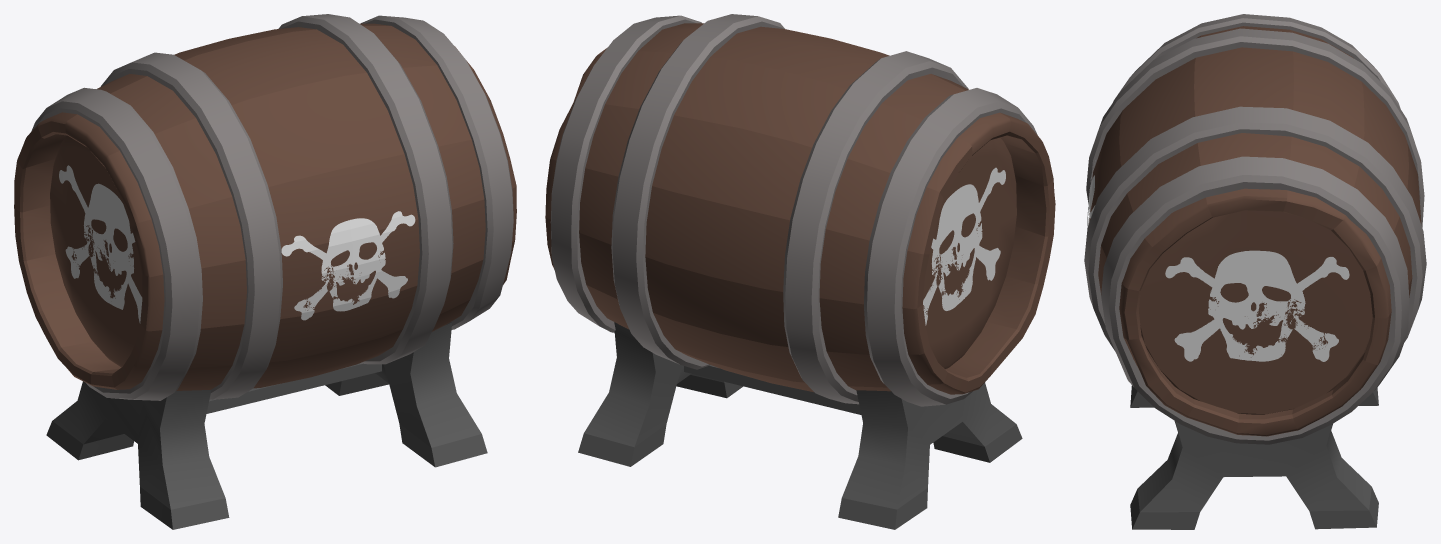
Rendered from barrel_stand_model.fbx.
The picture shows the model from 3 angles, left to right: view 1: azimuth 30°, elevation 25°; view 2: azimuth 150°, elevation 25°; view 3: azimuth 270°, elevation 25°; orthographic projection. The views are drawn at different scales.
Visible parts, largest first — view 1: lp.029, StaticMesh4_LOD0.001, lp.034, lp.035, lp.033, lp.031, lp.032, 32673554c1.003, 32673554c1.004; view 2: lp.029, StaticMesh4_LOD0.001, lp.034, lp.035, lp.033, lp.031, lp.032, 32673554c1.004; view 3: lp.029, lp.030, lp.032, StaticMesh4_LOD0.001, lp.033, 32673554c1.005, lp.034, lp.035.
Boxes of the visible parts, x1,y1,x2,y2 form: lp.029: (14,23,516,390); StaticMesh4_LOD0.001: (46,322,487,529); lp.034: (100,52,282,399); lp.035: (31,87,202,400); lp.033: (278,14,453,364); lp.031: (50,135,142,367); lp.032: (361,15,513,329); 32673554c1.003: (281,211,415,320); 32673554c1.004: (59,165,142,323); lp.029: (545,23,1055,394); StaticMesh4_LOD0.001: (578,322,1022,529); lp.034: (783,51,968,404); lp.035: (864,88,1037,406); lp.033: (611,14,784,369); lp.031: (923,137,1016,368); lp.032: (550,15,701,332); 32673554c1.004: (923,167,1005,325); lp.029: (1088,26,1421,436); lp.030: (1139,210,1372,414); lp.032: (1101,156,1409,444); StaticMesh4_LOD0.001: (1130,385,1378,529); lp.033: (1084,106,1426,351); 32673554c1.005: (1165,250,1349,361); lp.034: (1086,28,1424,227); lp.035: (1113,14,1400,108).
Bounding box in the file's own units: 146 × 148 × 119.
